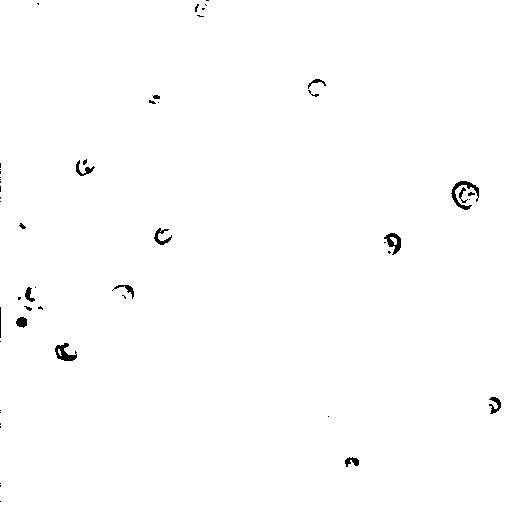micro-algae: (210, 201, 288, 276), (327, 0, 394, 50), (86, 263, 142, 316), (181, 352, 221, 393), (4, 301, 39, 339), (19, 274, 53, 307), (449, 180, 483, 211), (11, 207, 43, 236), (375, 231, 403, 258), (108, 283, 135, 308), (53, 340, 78, 364), (73, 155, 96, 177), (499, 370, 511, 409), (151, 225, 173, 246), (306, 78, 329, 98), (481, 397, 504, 416), (193, 1, 216, 17), (341, 455, 361, 471), (30, 0, 55, 11)
